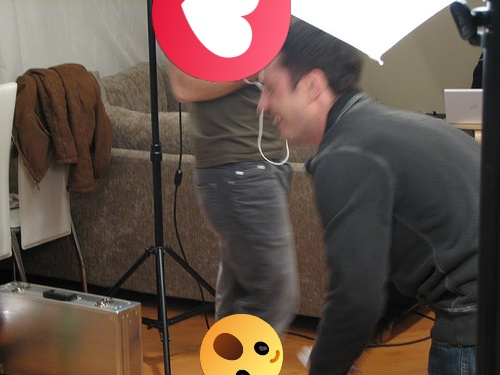love: (152, 0, 291, 82)
wow: (200, 314, 283, 375)
